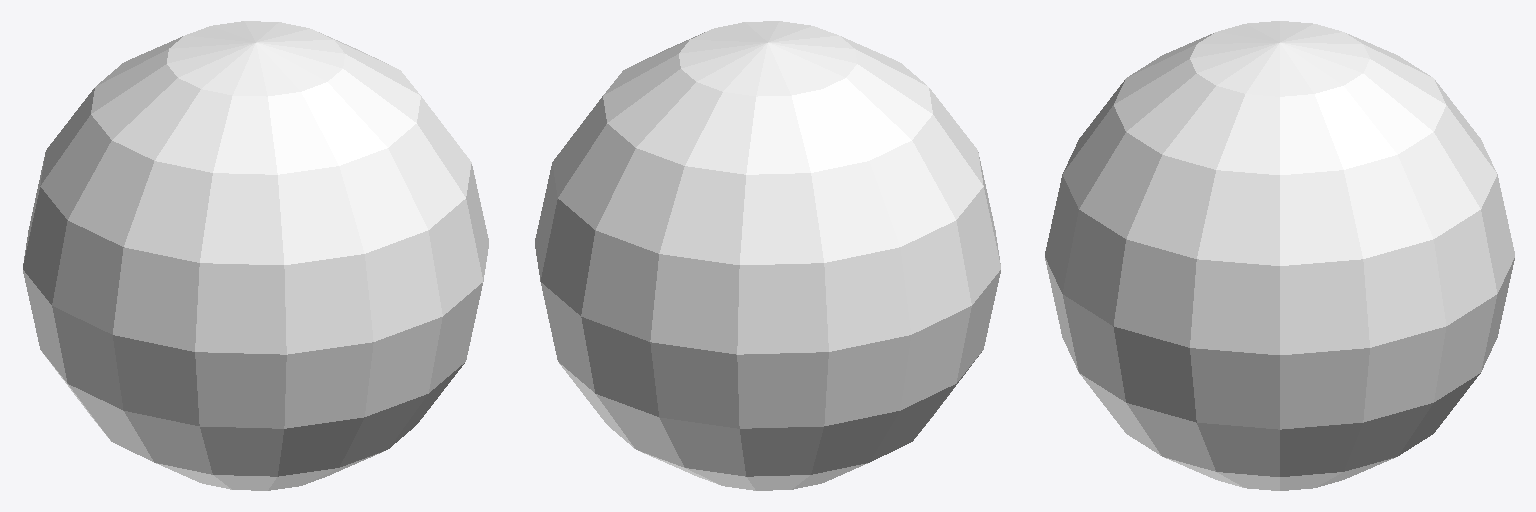
Rendered from small_sphere.obj.
3 views of the same model, side by side, from view 1: azimuth 30°, elevation 25°; view 2: azimuth 150°, elevation 25°; view 3: azimuth 270°, elevation 25° (orthographic).
Visible parts, largest first — view 1: Sphere.001; view 2: Sphere.001; view 3: Sphere.001.
Part boxes in pixels (x1,y1,x2,y2): Sphere.001: (23,21,488,490); Sphere.001: (535,21,1000,490); Sphere.001: (1045,21,1514,490).
Bounding box in the file's own units: 0.069 × 0.069 × 0.069.